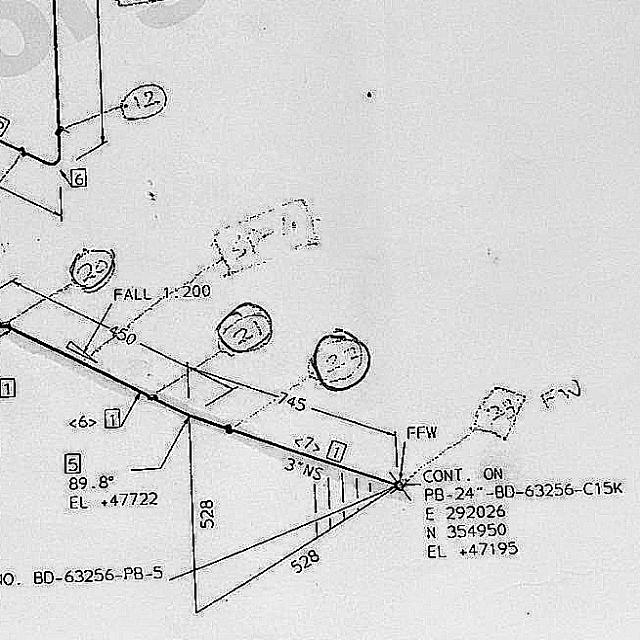Item number: (61, 335, 95, 362), (325, 437, 349, 463), (102, 405, 125, 431), (67, 164, 88, 190), (63, 450, 83, 475), (1, 375, 18, 400), (1, 111, 12, 137)
Measrement: (193, 484, 393, 619), (1, 174, 65, 224), (111, 284, 150, 304)
Pipeline: (2, 322, 399, 518)
Symbol: (387, 464, 412, 497)
Weld number: (307, 325, 373, 395), (213, 299, 276, 358), (67, 244, 119, 296), (118, 79, 169, 124)
other: (419, 464, 627, 561), (1, 564, 170, 588), (65, 473, 161, 513)
